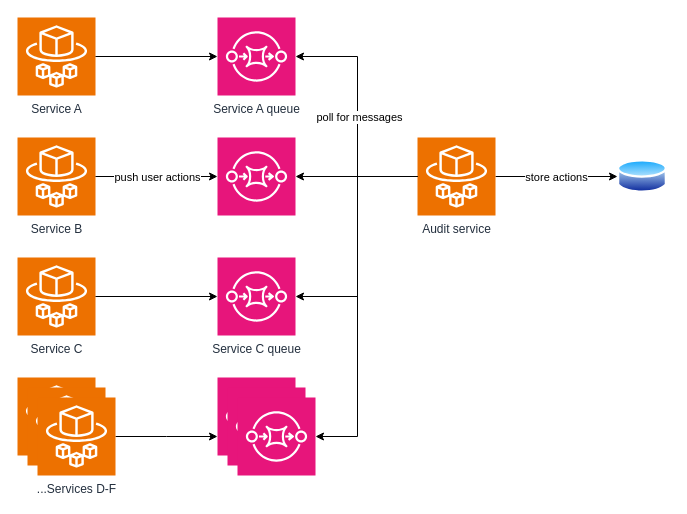
Image size: 687x514. Some labels were removed from this diagram. Each missing label, with the centre of its shape:
"...Service D-F queue" belongs at pixel 276 436.
"Data store" belongs at pixel 642 176.
"Service B queue" belongs at pixel 256 176.
